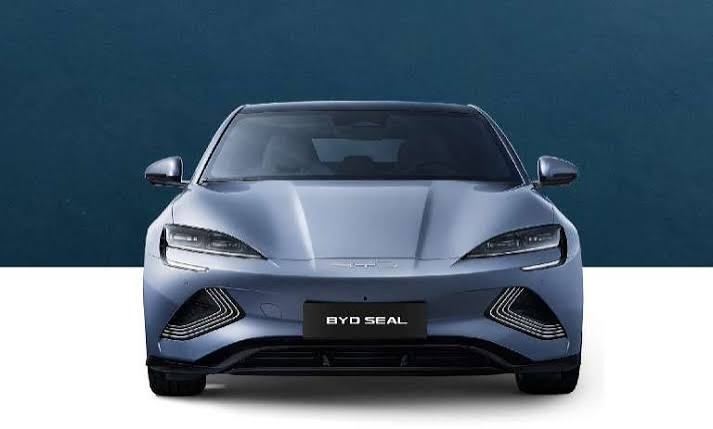car: (131, 103, 591, 398)
